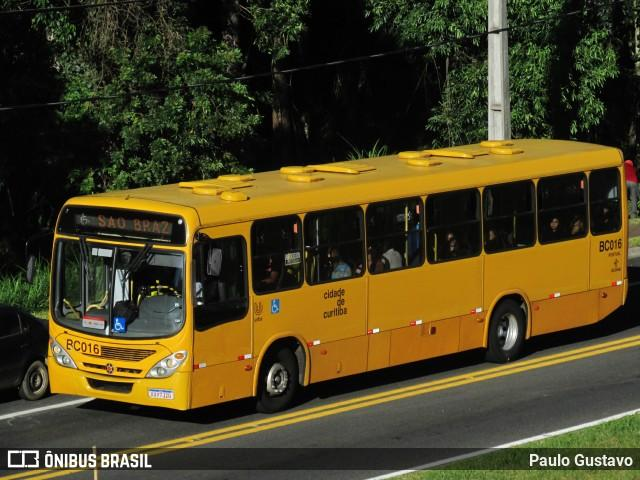SAO BRAZ: (95, 210, 175, 237)
